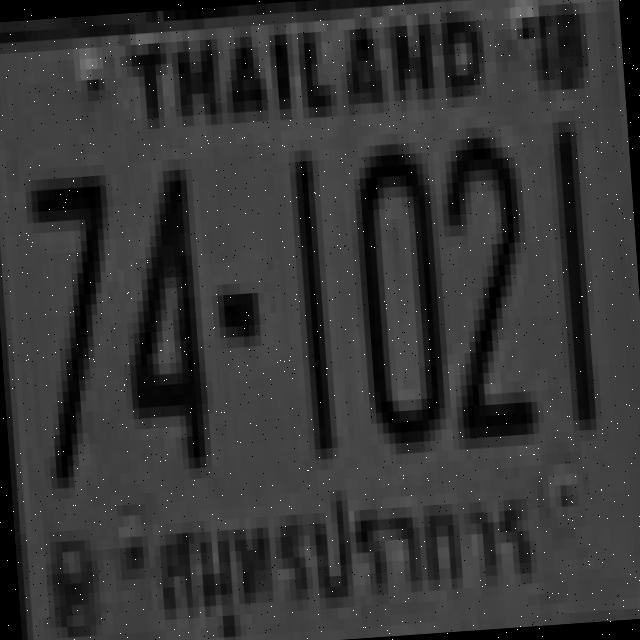0: (345, 131, 447, 445)
1: (285, 149, 335, 449), (548, 116, 593, 426), (549, 127, 593, 426)
2: (437, 125, 532, 439)
4: (110, 158, 206, 462)
7: (24, 164, 120, 478)
SamutPrakan: (137, 473, 544, 640)
